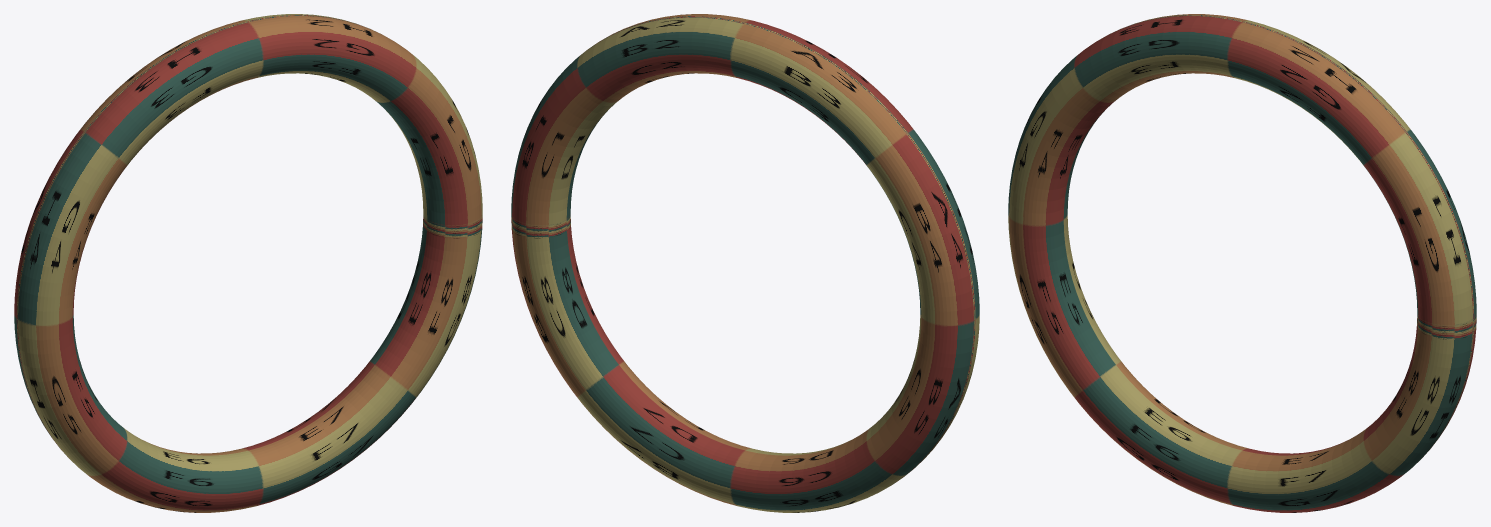
File: texture_torus_R9_r2.glb
3 views of the same model, side by side, from view 1: azimuth 30°, elevation 25°; view 2: azimuth 150°, elevation 25°; view 3: azimuth 330°, elevation 25° (orthographic).
Visible parts, largest first — view 1: world; view 2: world; view 3: world.
Boxes of the visible parts, x1,y1,x2,y2 form: world: (14,14,482,512); world: (511,14,979,512); world: (1008,14,1476,512).
Bounding box in the file's own units: 33.78 × 33.78 × 3.77.
1 material, 1 textured.
